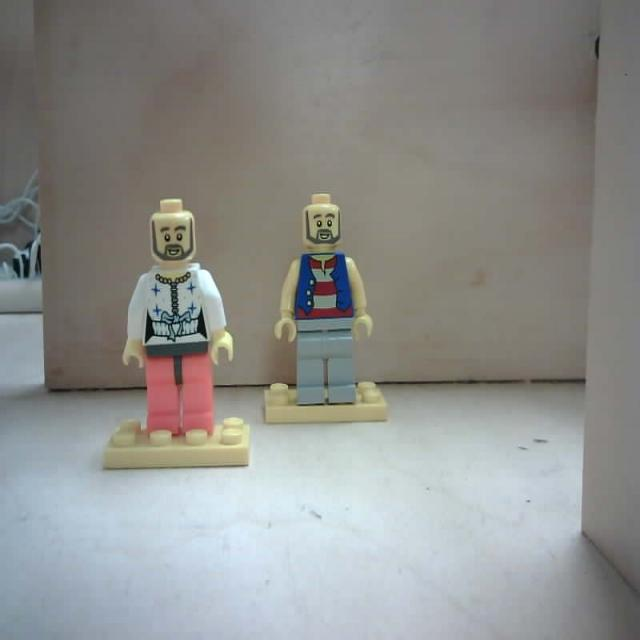Lego-People: (100, 200, 254, 471), (266, 195, 388, 428)
